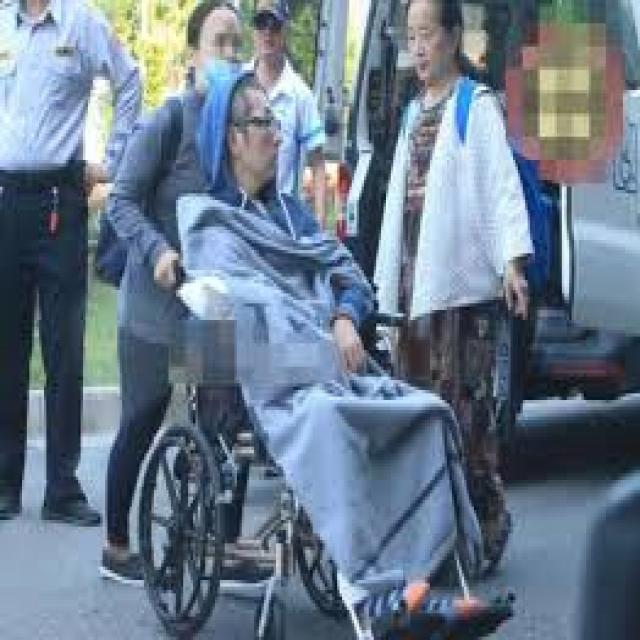wheelchairs: (125, 240, 520, 637)
